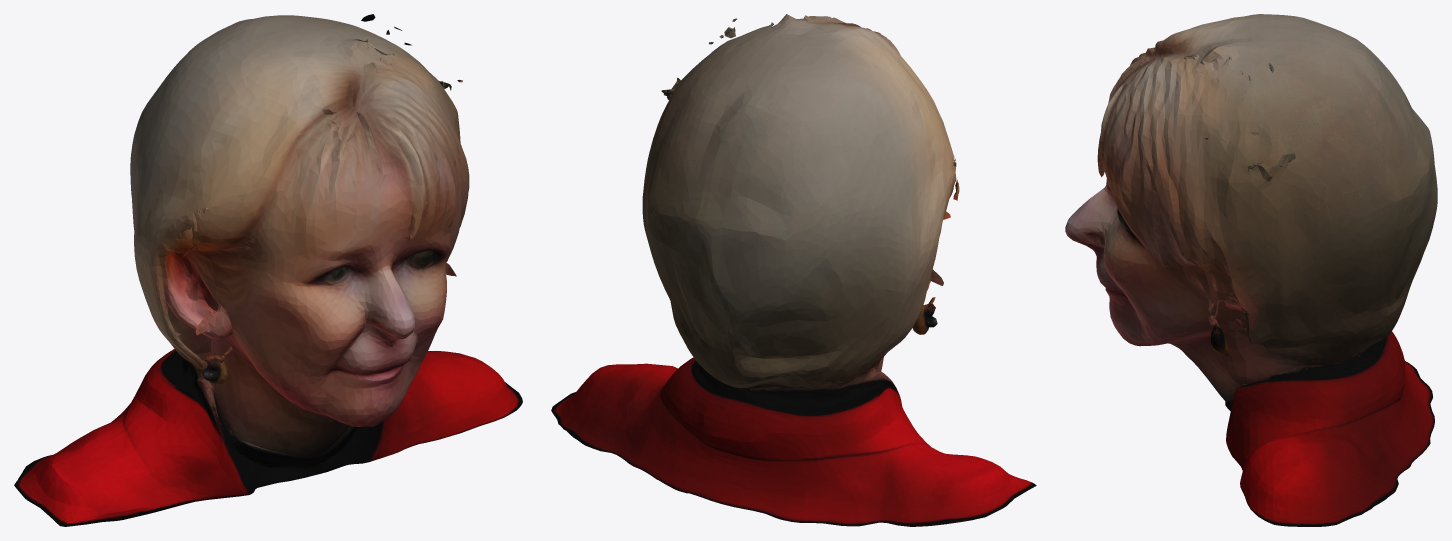
The picture shows the model from 3 angles, left to right: view 1: azimuth 30°, elevation 25°; view 2: azimuth 150°, elevation 25°; view 3: azimuth 270°, elevation 25°; orthographic projection. The views are drawn at different scales.
Parts seen in each view (by area): view 1: world; view 2: world; view 3: world.
Part boxes in pixels (<box>): world: <box>14,14,522,526</box>; world: <box>551,14,1036,526</box>; world: <box>1065,14,1437,526</box>.
Size of the model in its own units: 0.996 by 0.8613 by 0.7266.
Materials: 1 (1 with a texture image).
